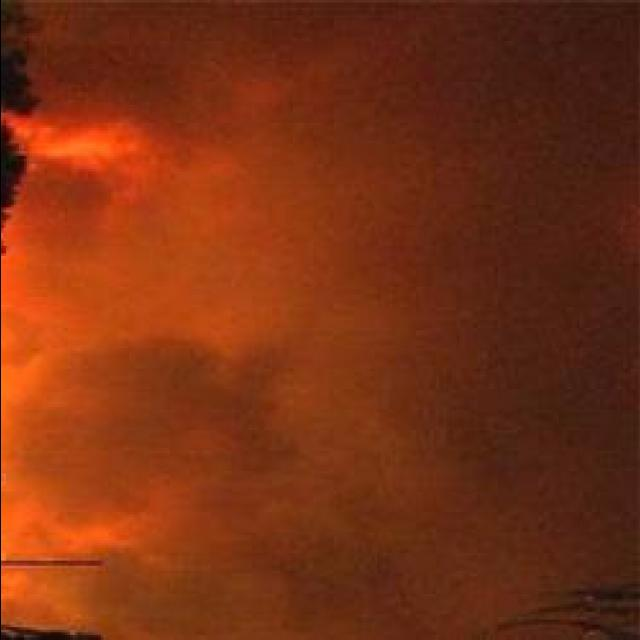fire: (0, 123, 138, 164)
smoke: (2, 333, 288, 530), (74, 497, 415, 640)
